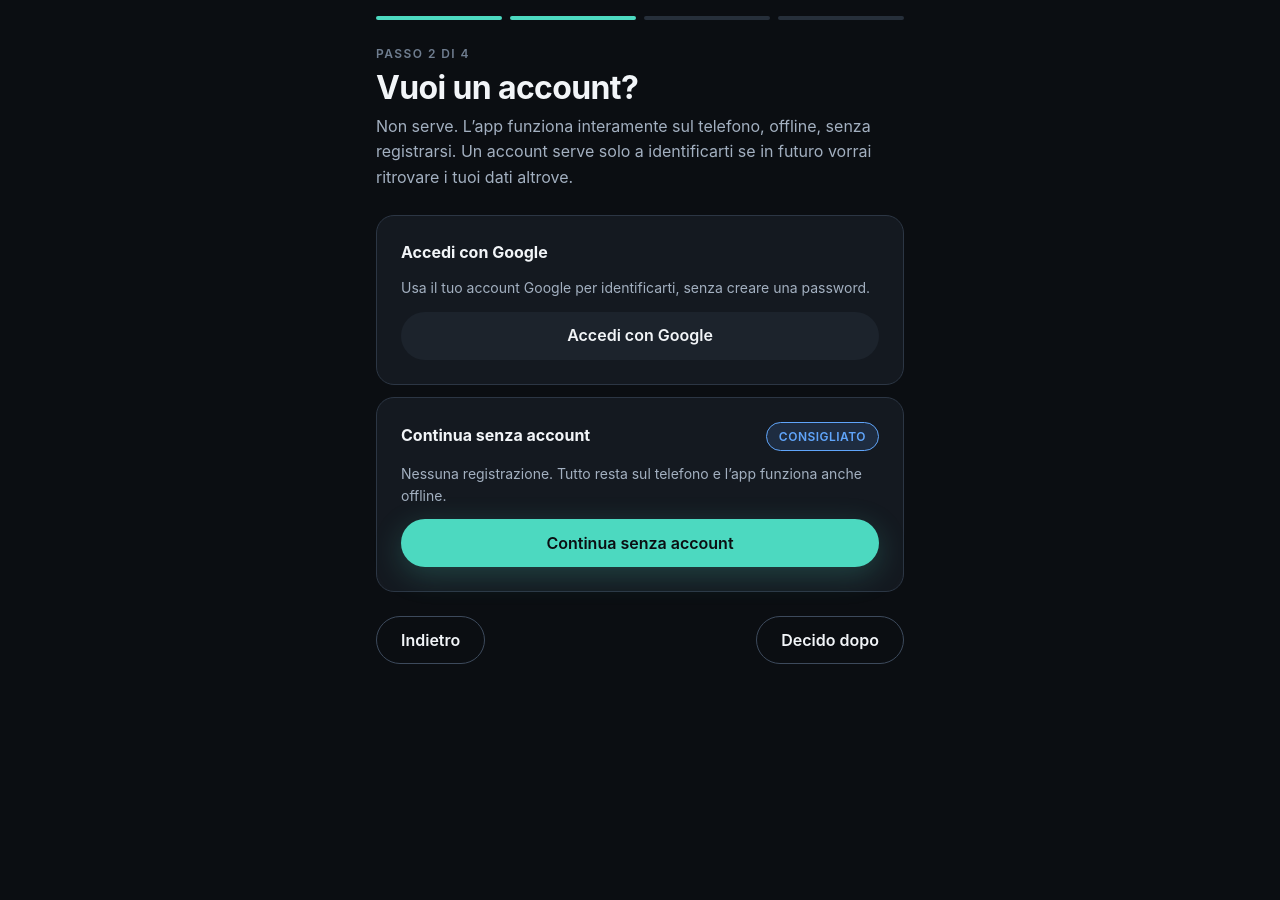
Test: flusso completo con dispositivo simulato › registra, scarica e analizza una run producendo un consiglio concreto
Earlier steps of the test are not shown.
Later steps or results of the test are not shown.
Click the button "Decido dopo": [830, 640] box x1=756 y1=616 x2=904 y2=664
(page scrolled)
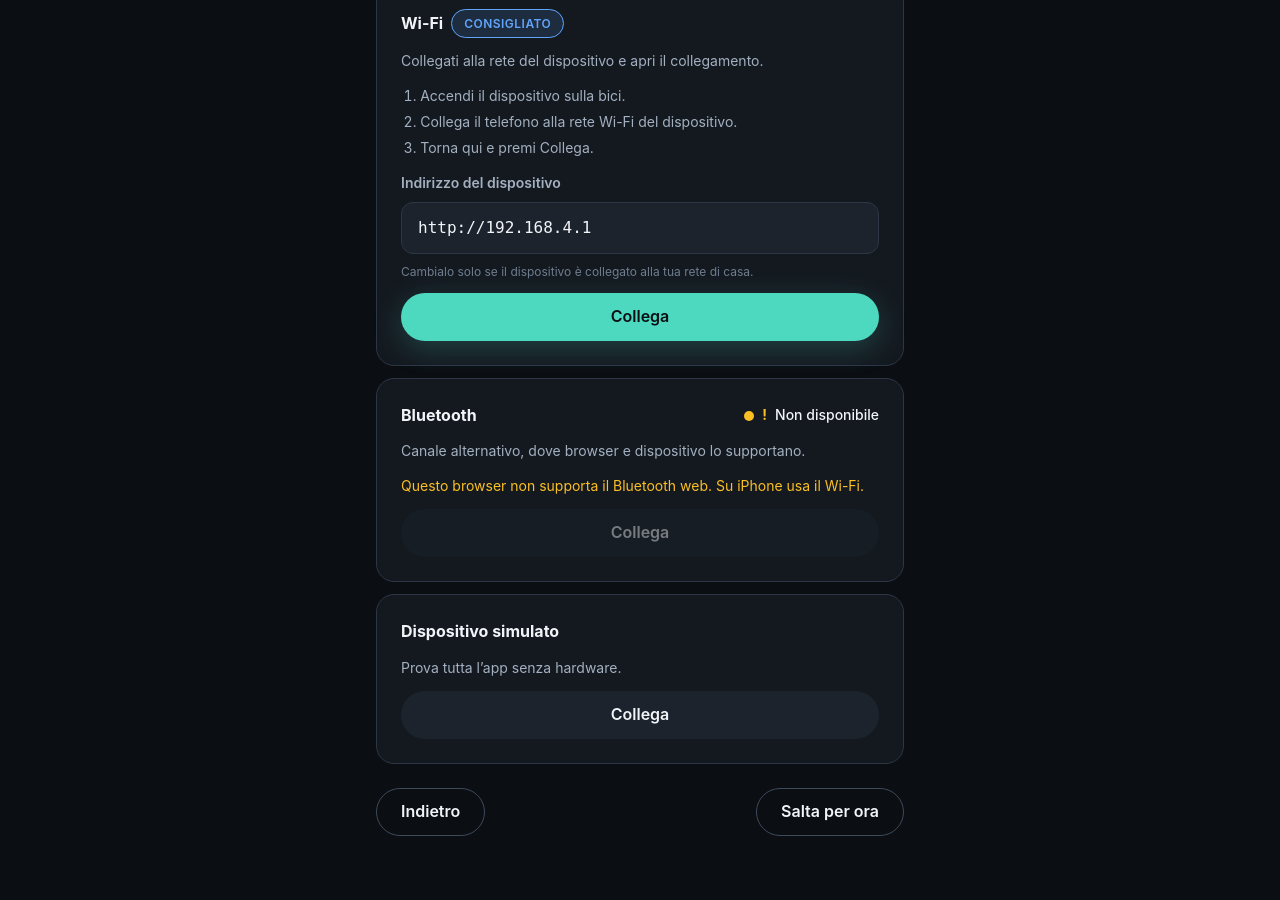
Click the button "Salta per ora": [830, 812] box x1=756 y1=788 x2=904 y2=836
(page scrolled)
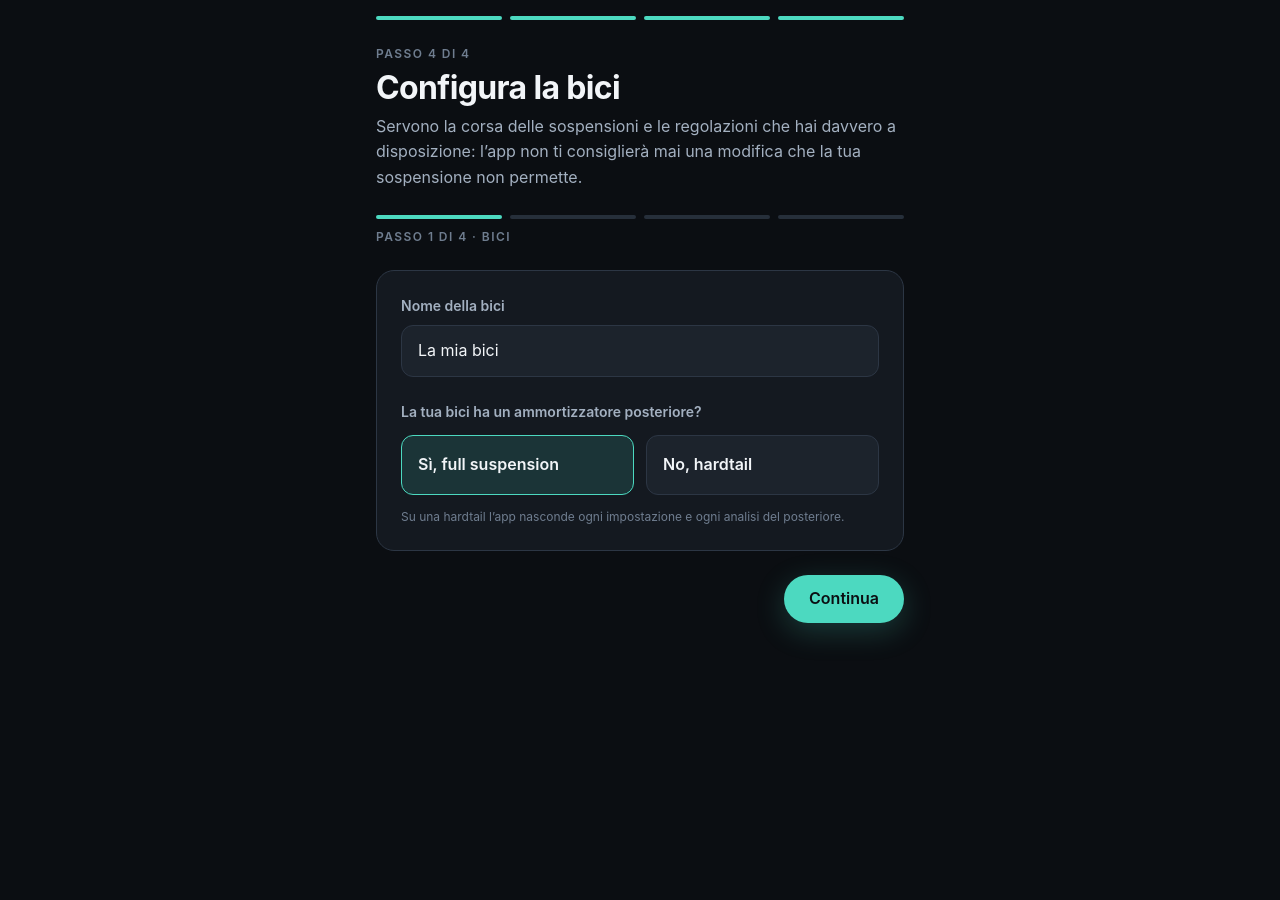
Check: the heading "Configura la bici" is shown, box x1=376 y1=68 x2=620 y2=107
Click the button "Continua": [844, 599] box x1=784 y1=575 x2=904 y2=623
(page scrolled)
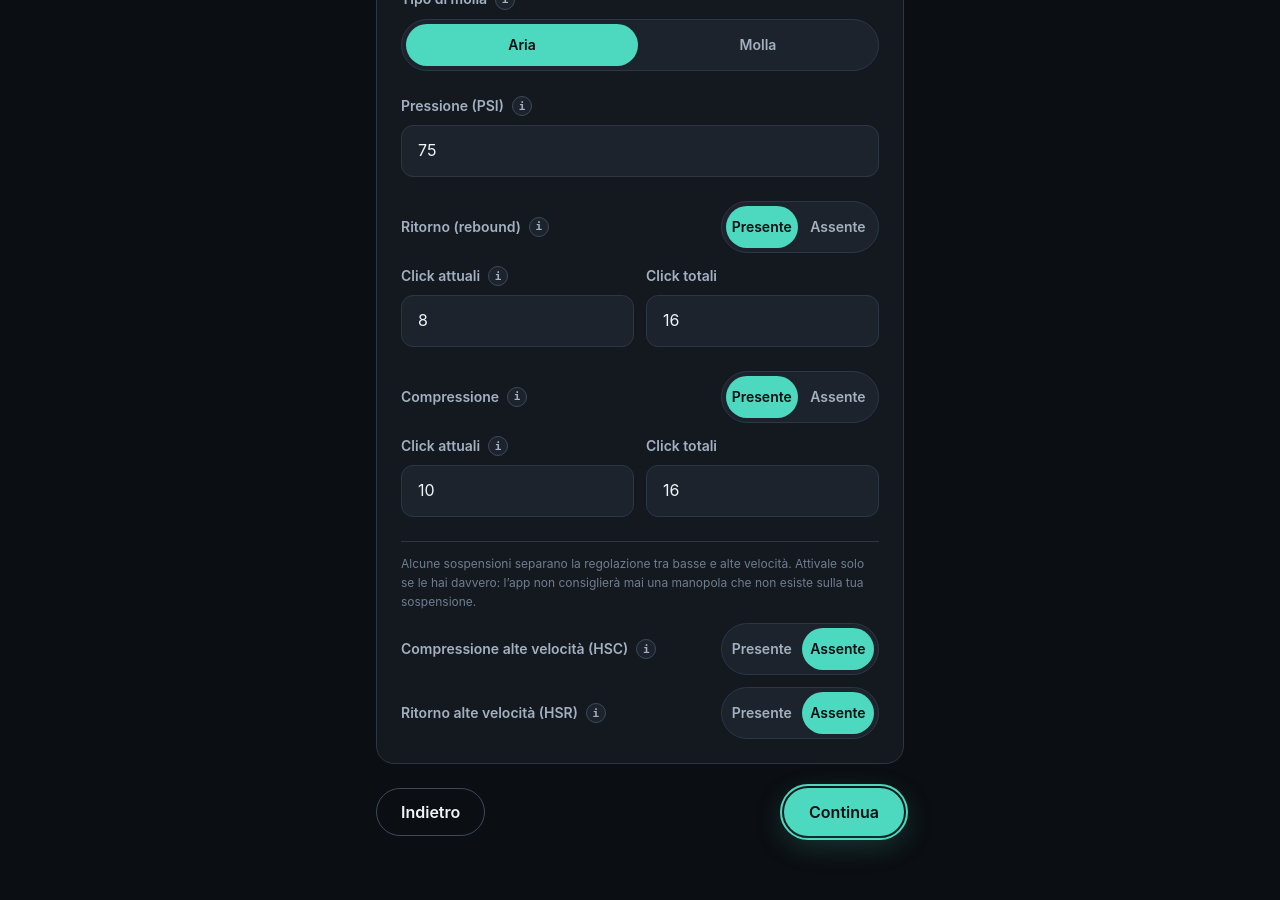
Click the button "Continua": [844, 812] box x1=784 y1=788 x2=904 y2=836
(page scrolled)
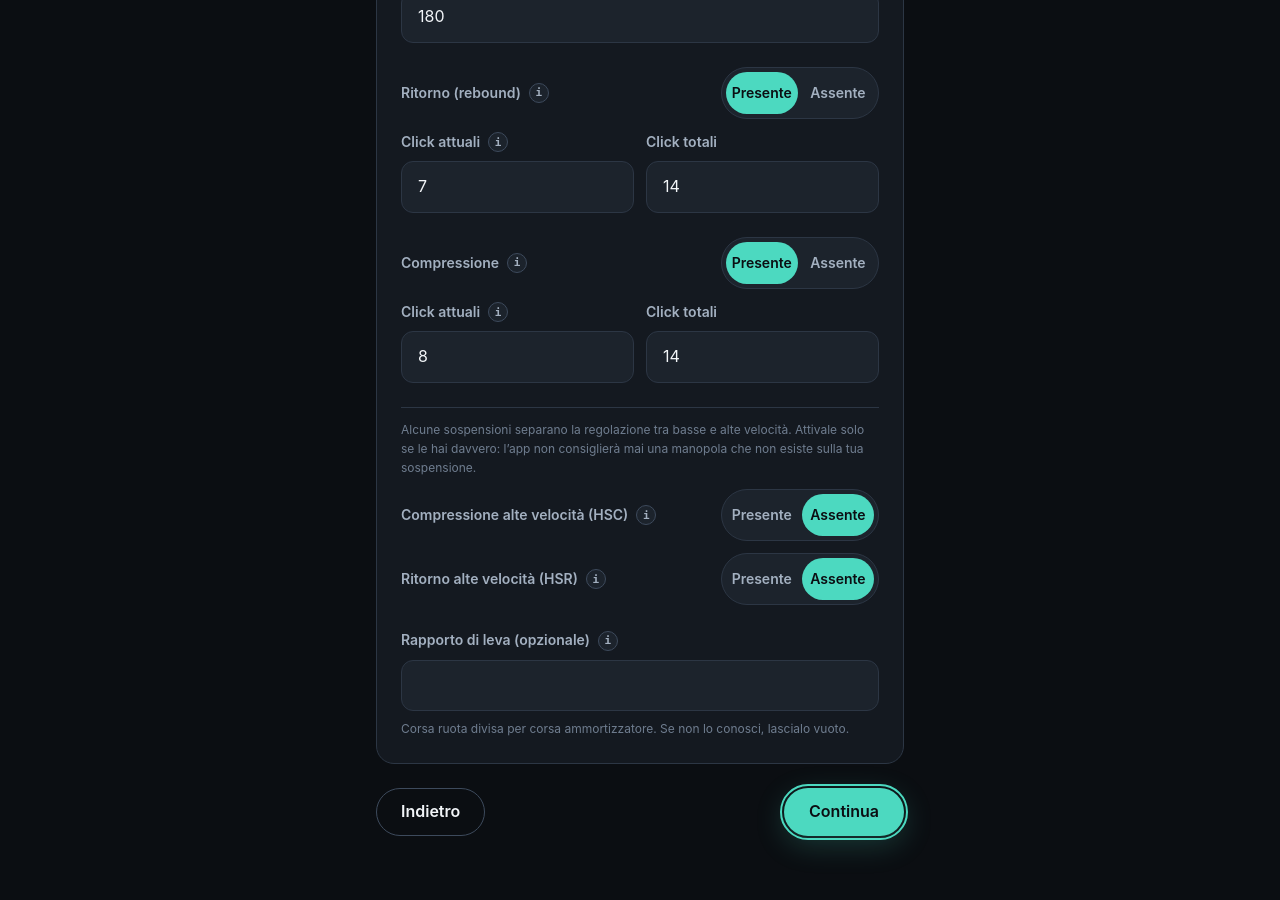
Click the button "Continua": [844, 812] box x1=784 y1=788 x2=904 y2=836
(page scrolled)
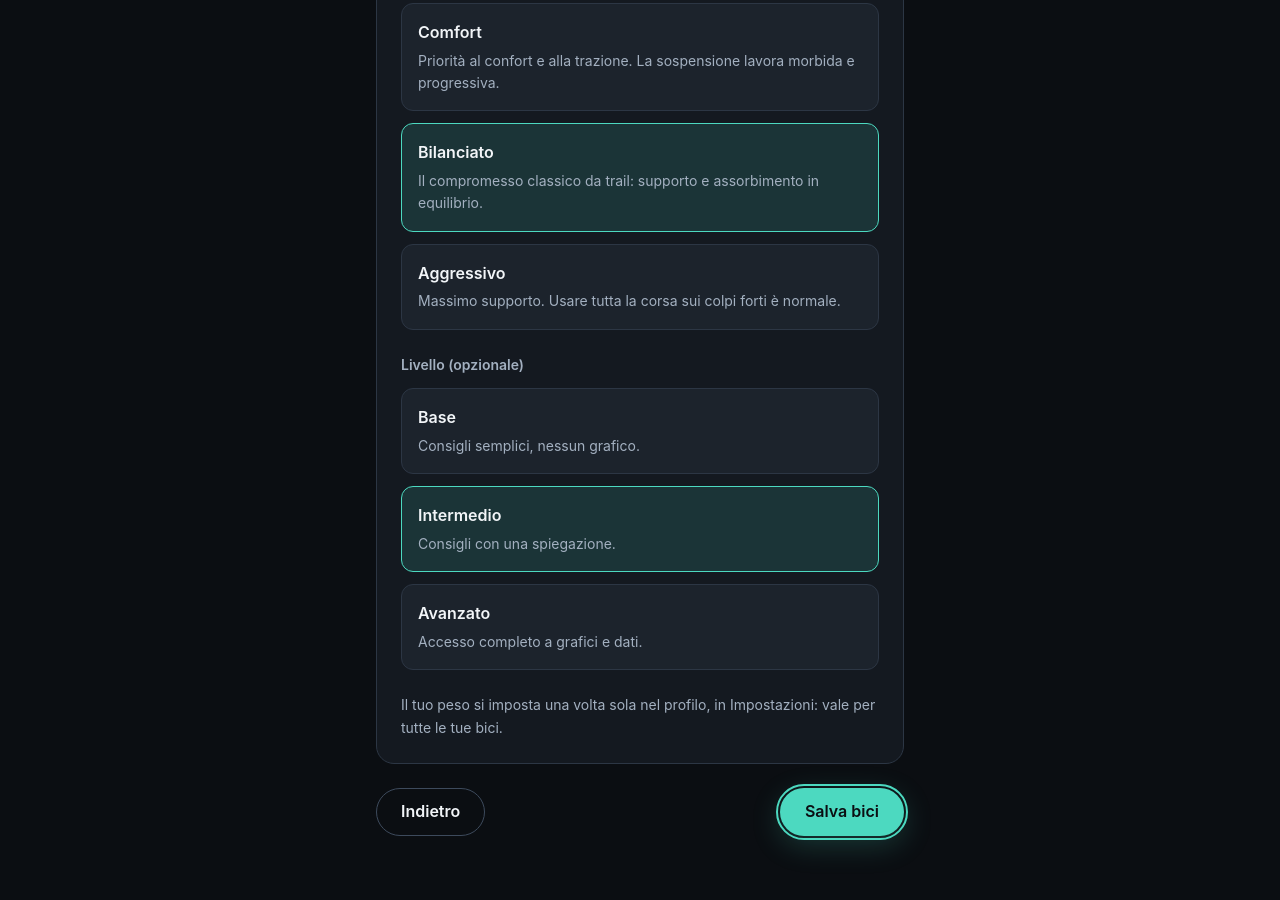
Click the button "Salva bici": [842, 812] box x1=780 y1=788 x2=904 y2=836
(page scrolled)
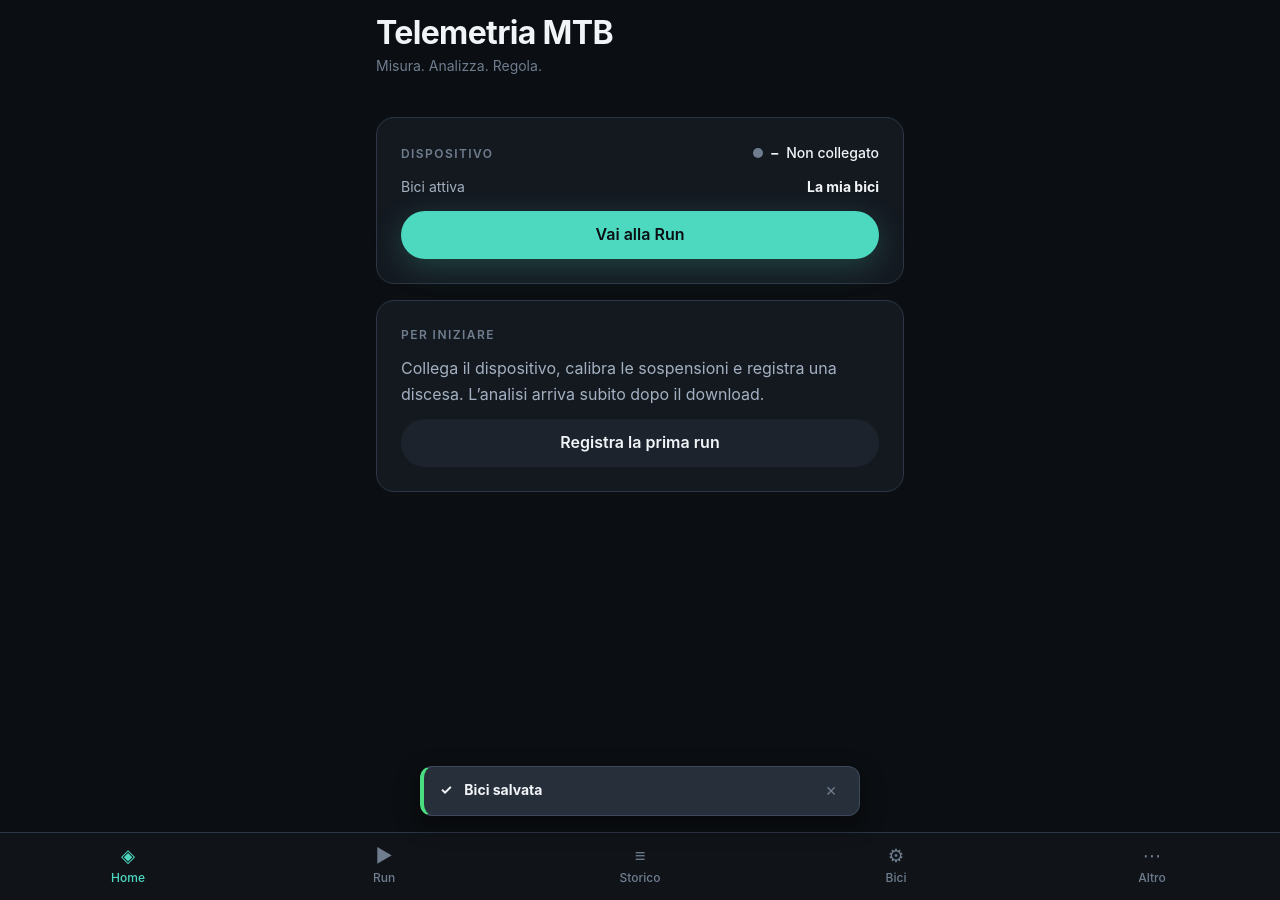
Check: the heading "Telemetria MTB" is shown, box x1=376 y1=16 x2=613 y2=50
